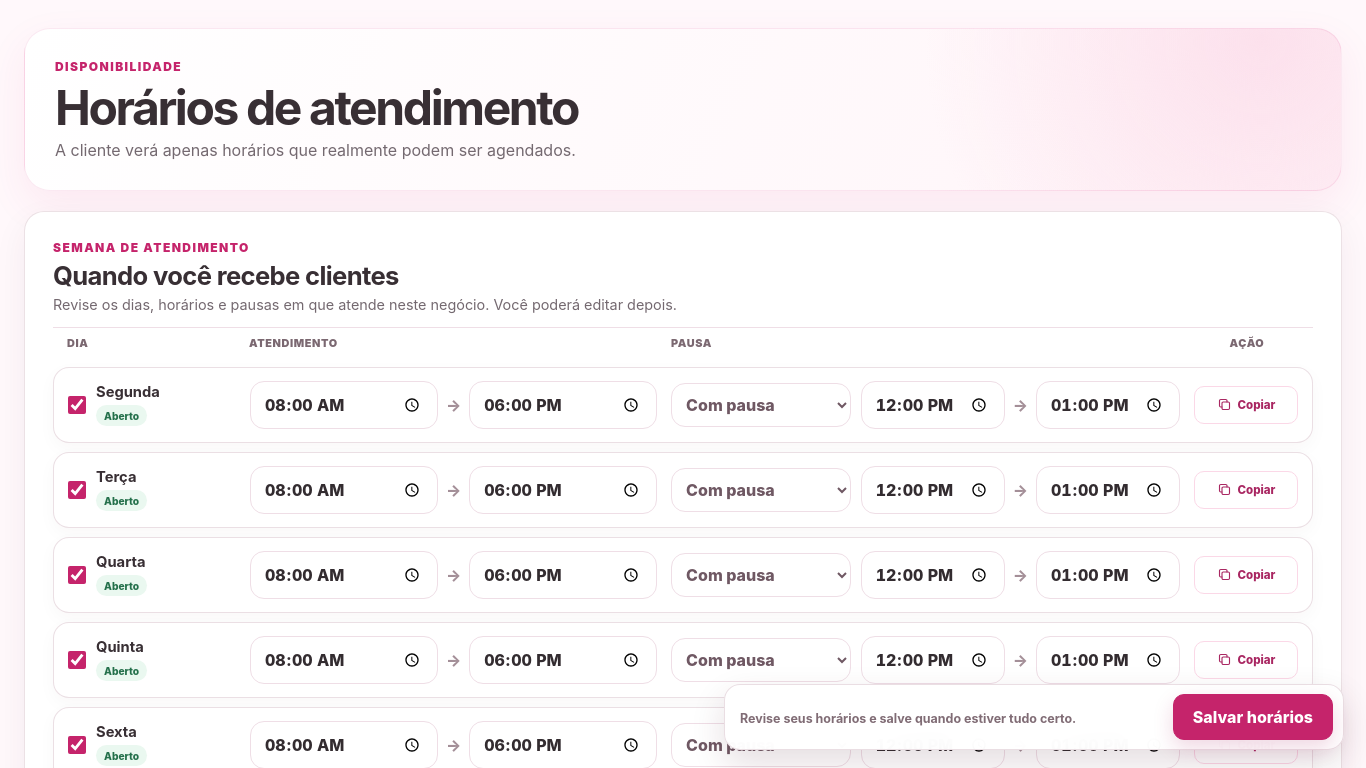
Test case: configuração de horários › mantém a primeira configuração profissional no editor operacional
Check: the heading "Quando você recebe clientes" is shown, box [53,260,399,291]
Click the button "Salvar horários": x=1253, y=717 [1173,694,1333,740]
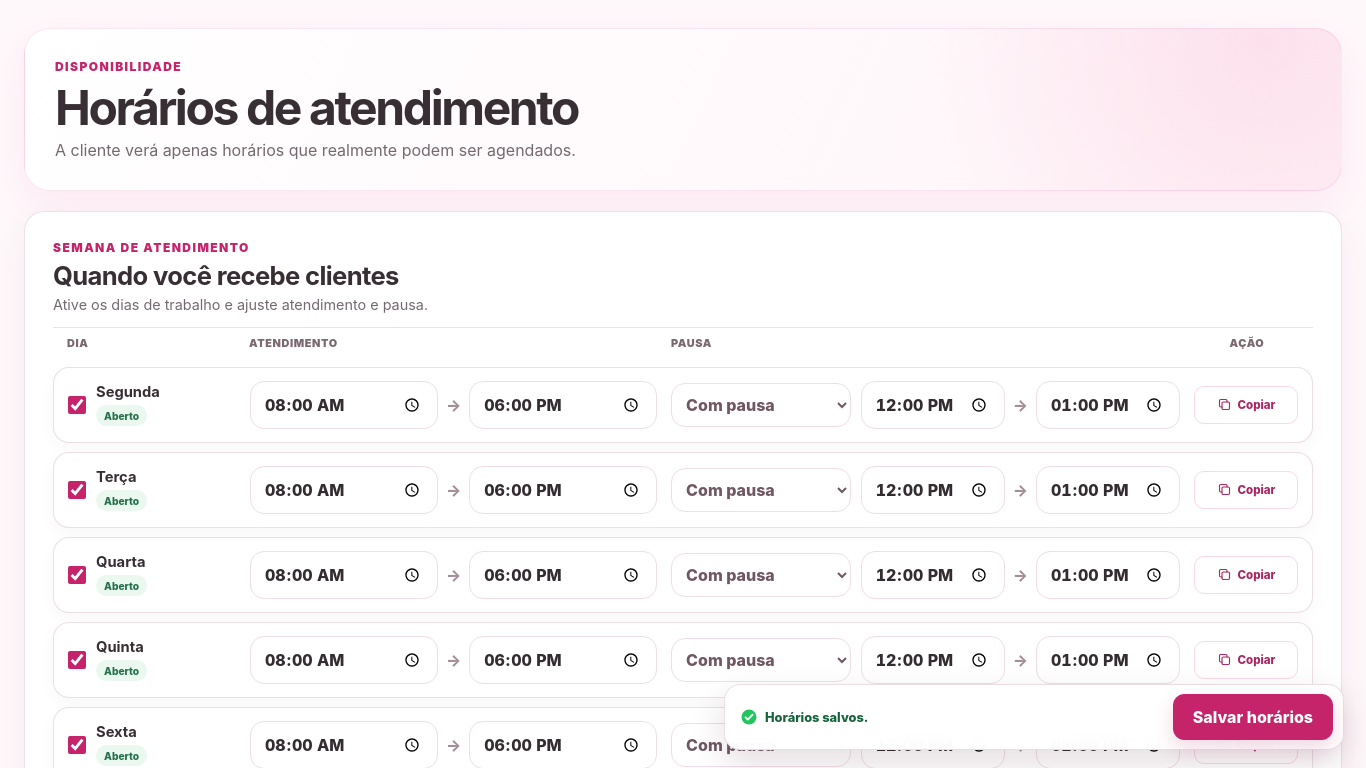
Check: the text "Horários salvos." is shown, box [740,708,868,726]
